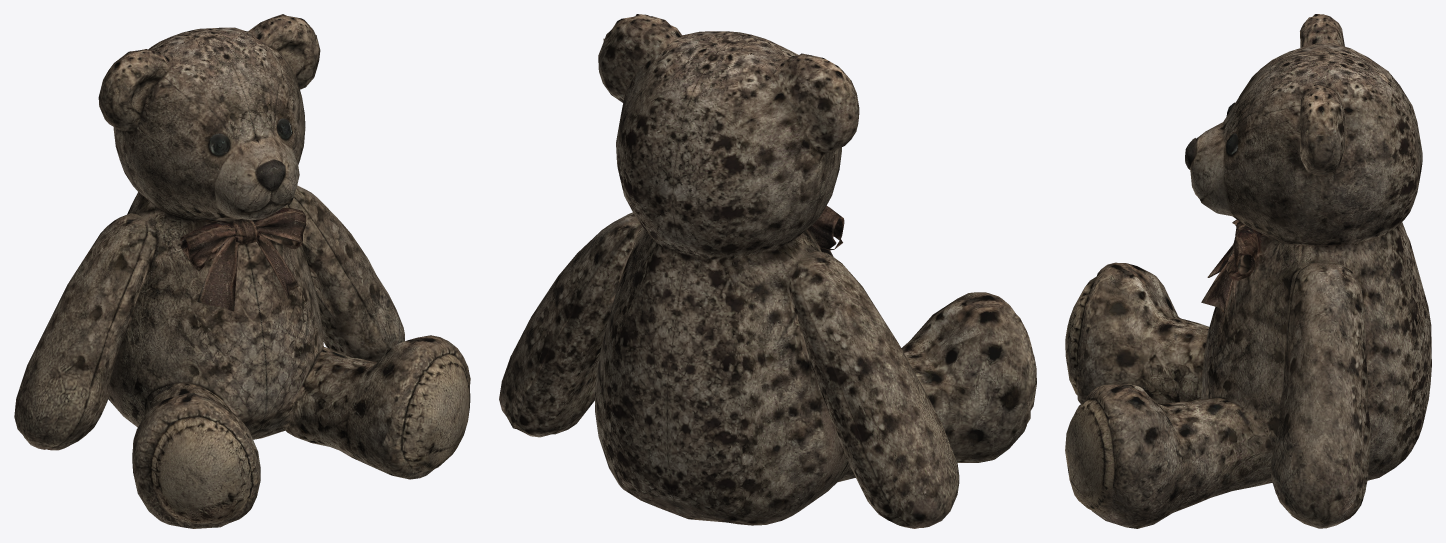
Rendered from toy bear.fbx.
The picture shows the model from 3 angles, left to right: view 1: azimuth 30°, elevation 25°; view 2: azimuth 150°, elevation 25°; view 3: azimuth 270°, elevation 25°; orthographic projection. The views are drawn at different scales.
Parts seen in each view (by area): view 1: Mesh1.0; view 2: Mesh1.0; view 3: Mesh1.0.
Part boxes in pixels (<box>): Mesh1.0: <box>14,14,470,528</box>; Mesh1.0: <box>499,14,1036,528</box>; Mesh1.0: <box>1065,14,1431,528</box>.
Size of the model in its own units: 190 by 189 by 153.
Materials: 1 (1 with a texture image).
